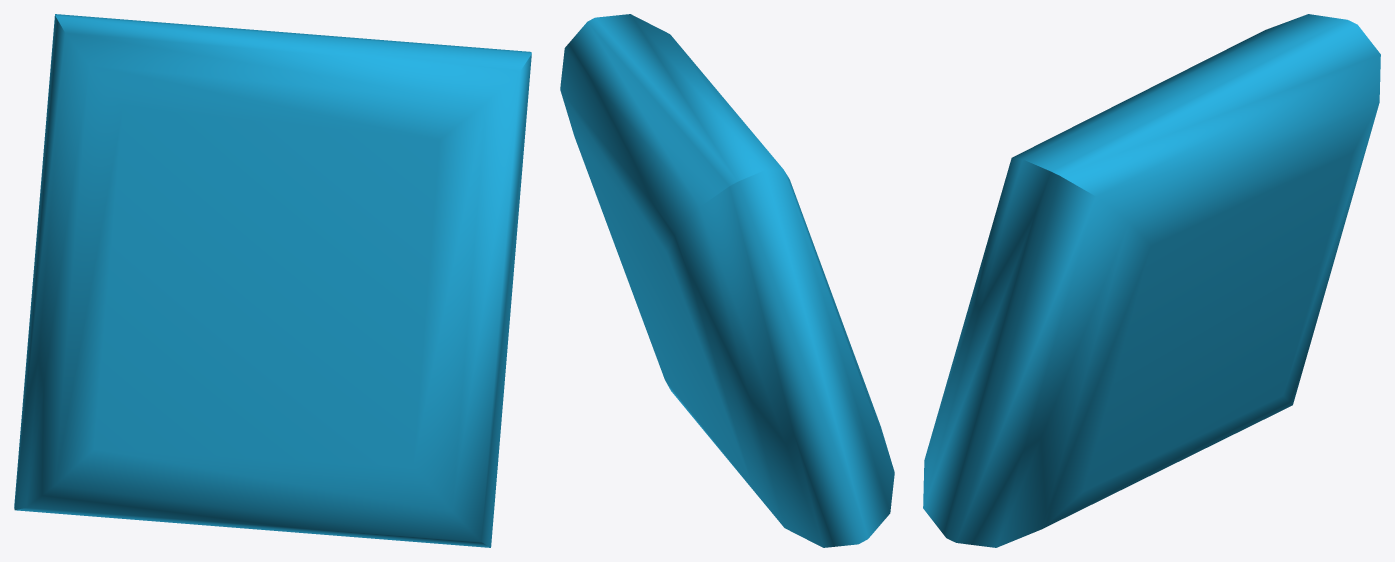
File: Cushion_2.fbx
3 renders of one model, left to right at view 1: azimuth 30°, elevation 25°; view 2: azimuth 150°, elevation 25°; view 3: azimuth 270°, elevation 25°, orthographic. The views are drawn at different scales.
Visible parts, largest first — view 1: pCube11; view 2: pCube11; view 3: pCube11.
Part boxes in pixels (x1=…): pCube11: x1=14, y1=14, x2=531, y2=547; pCube11: x1=560, y1=14, x2=894, y2=547; pCube11: x1=923, y1=14, x2=1380, y2=547.
Bounding box in the file's own units: 0.4844 × 0.4645 × 0.4623.
